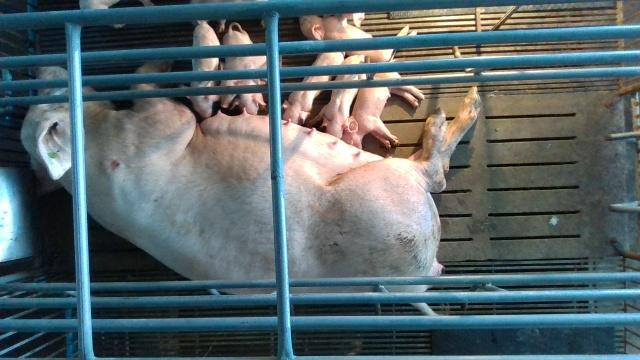piglet: (343, 72, 426, 150), (300, 16, 416, 62), (309, 52, 367, 139), (282, 52, 345, 125), (222, 22, 267, 115), (178, 22, 221, 118)
sow-sleep-lactate: (20, 65, 483, 316)
